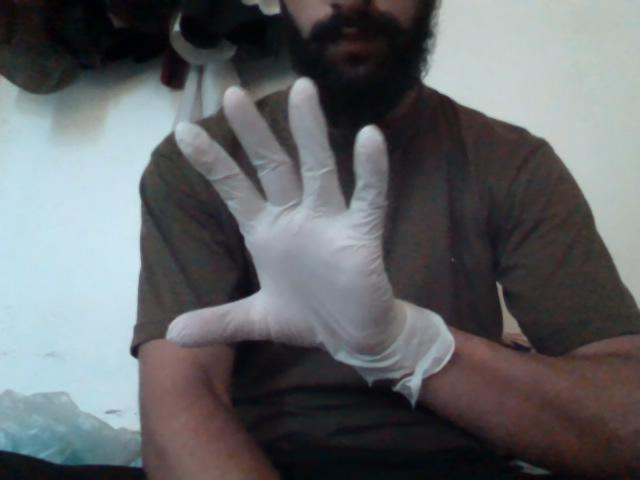gloves: (144, 74, 466, 407)
